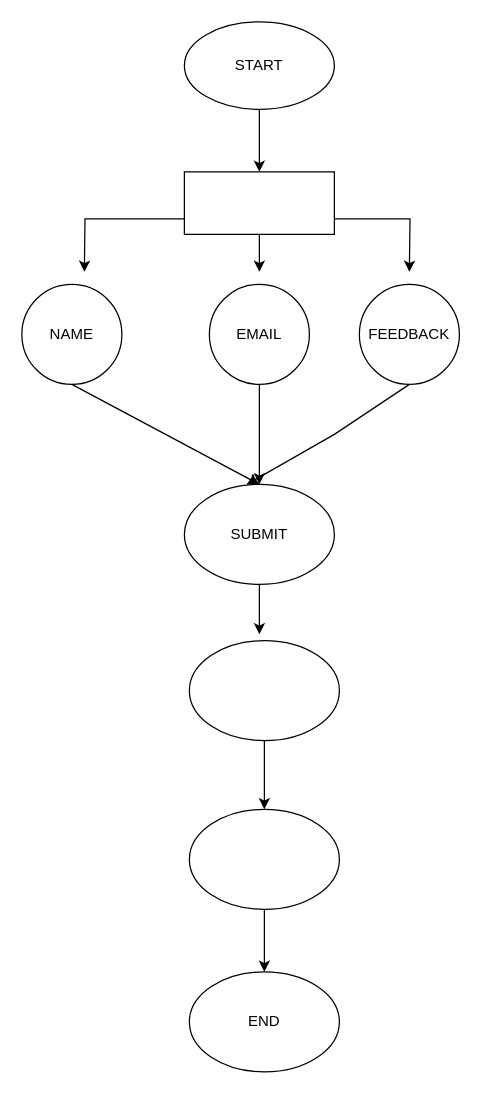
The diagram is 481 pixels wide and 1094 high, and some of its shapes have lost their labels. The shapes that lost their labels are listed below. From the top down, each one's centre as x and y in pixels, then its label:
point 258,202: FEEDBACK PAGE
point 263,690: SUCCESS MESSAGE
point 263,858: RESET FORM
